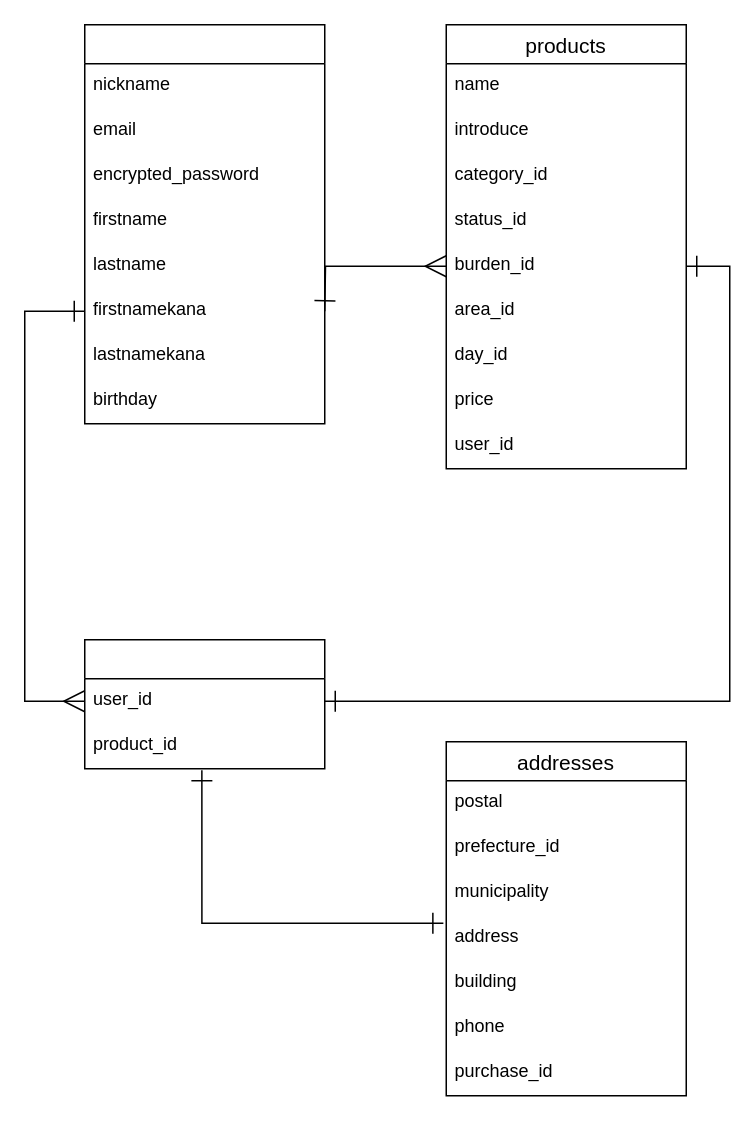
This 755x1121 diagram has some shape labels left out. Here are the shapes that lost their labels. From the top down, the box of each, then its label:
(83, 23, 325, 424): users
(83, 638, 325, 769): purchases
